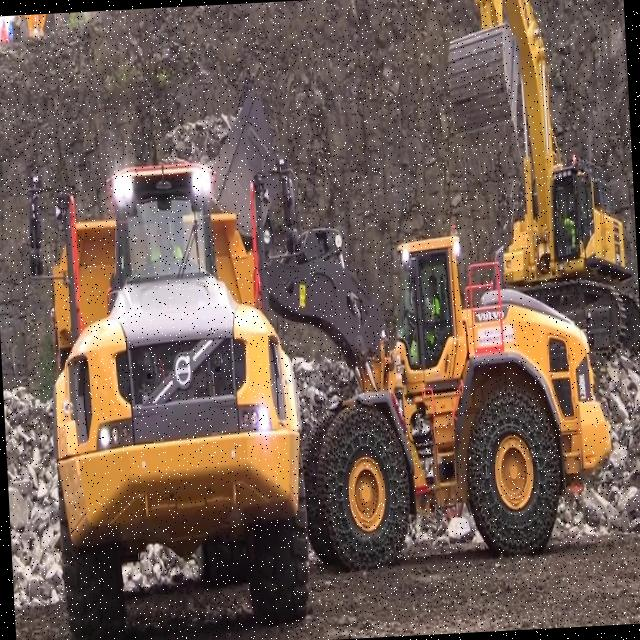Dump Truck: (20, 97, 315, 640)
Excavator: (439, 0, 640, 363)
Loader: (202, 60, 620, 579)
